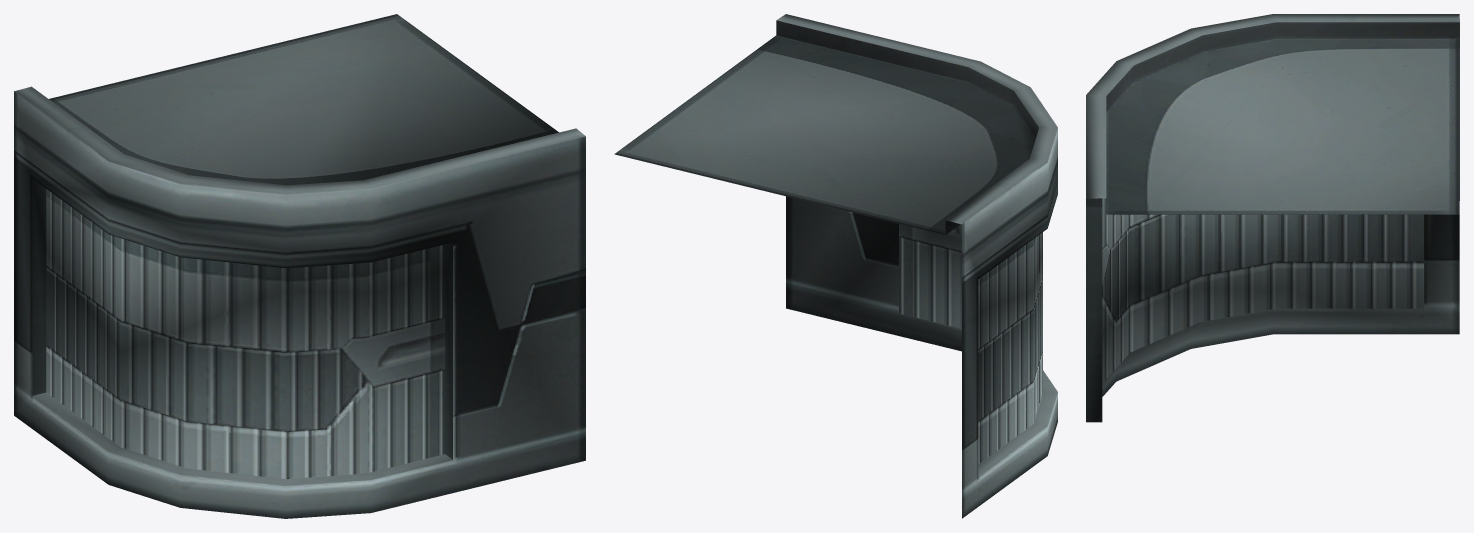
File: chest1.glb
3 views of the same model, side by side, from view 1: azimuth 30°, elevation 25°; view 2: azimuth 150°, elevation 25°; view 3: azimuth 270°, elevation 25° (orthographic). The views are drawn at different scales.
Visible parts, largest first — view 1: Box02; view 2: Box02; view 3: Box02.
Part boxes in pixels (<box>): Box02: <box>14,14,585,518</box>; Box02: <box>614,14,1057,518</box>; Box02: <box>1086,14,1459,422</box>.
Bounding box in the file's own units: 48.06 × 38.9 × 41.08.
Materials: 1 (1 with a texture image).
